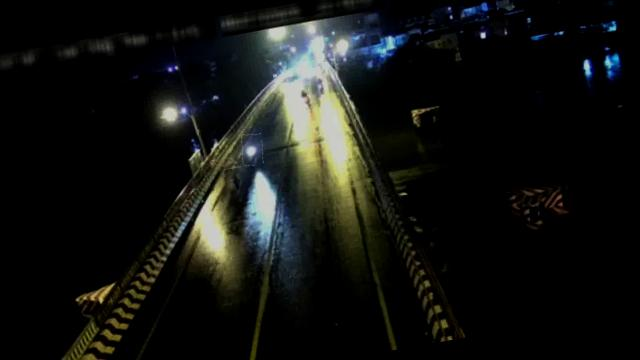Bike: (239, 132, 266, 166), (224, 166, 246, 198), (297, 88, 312, 109)
